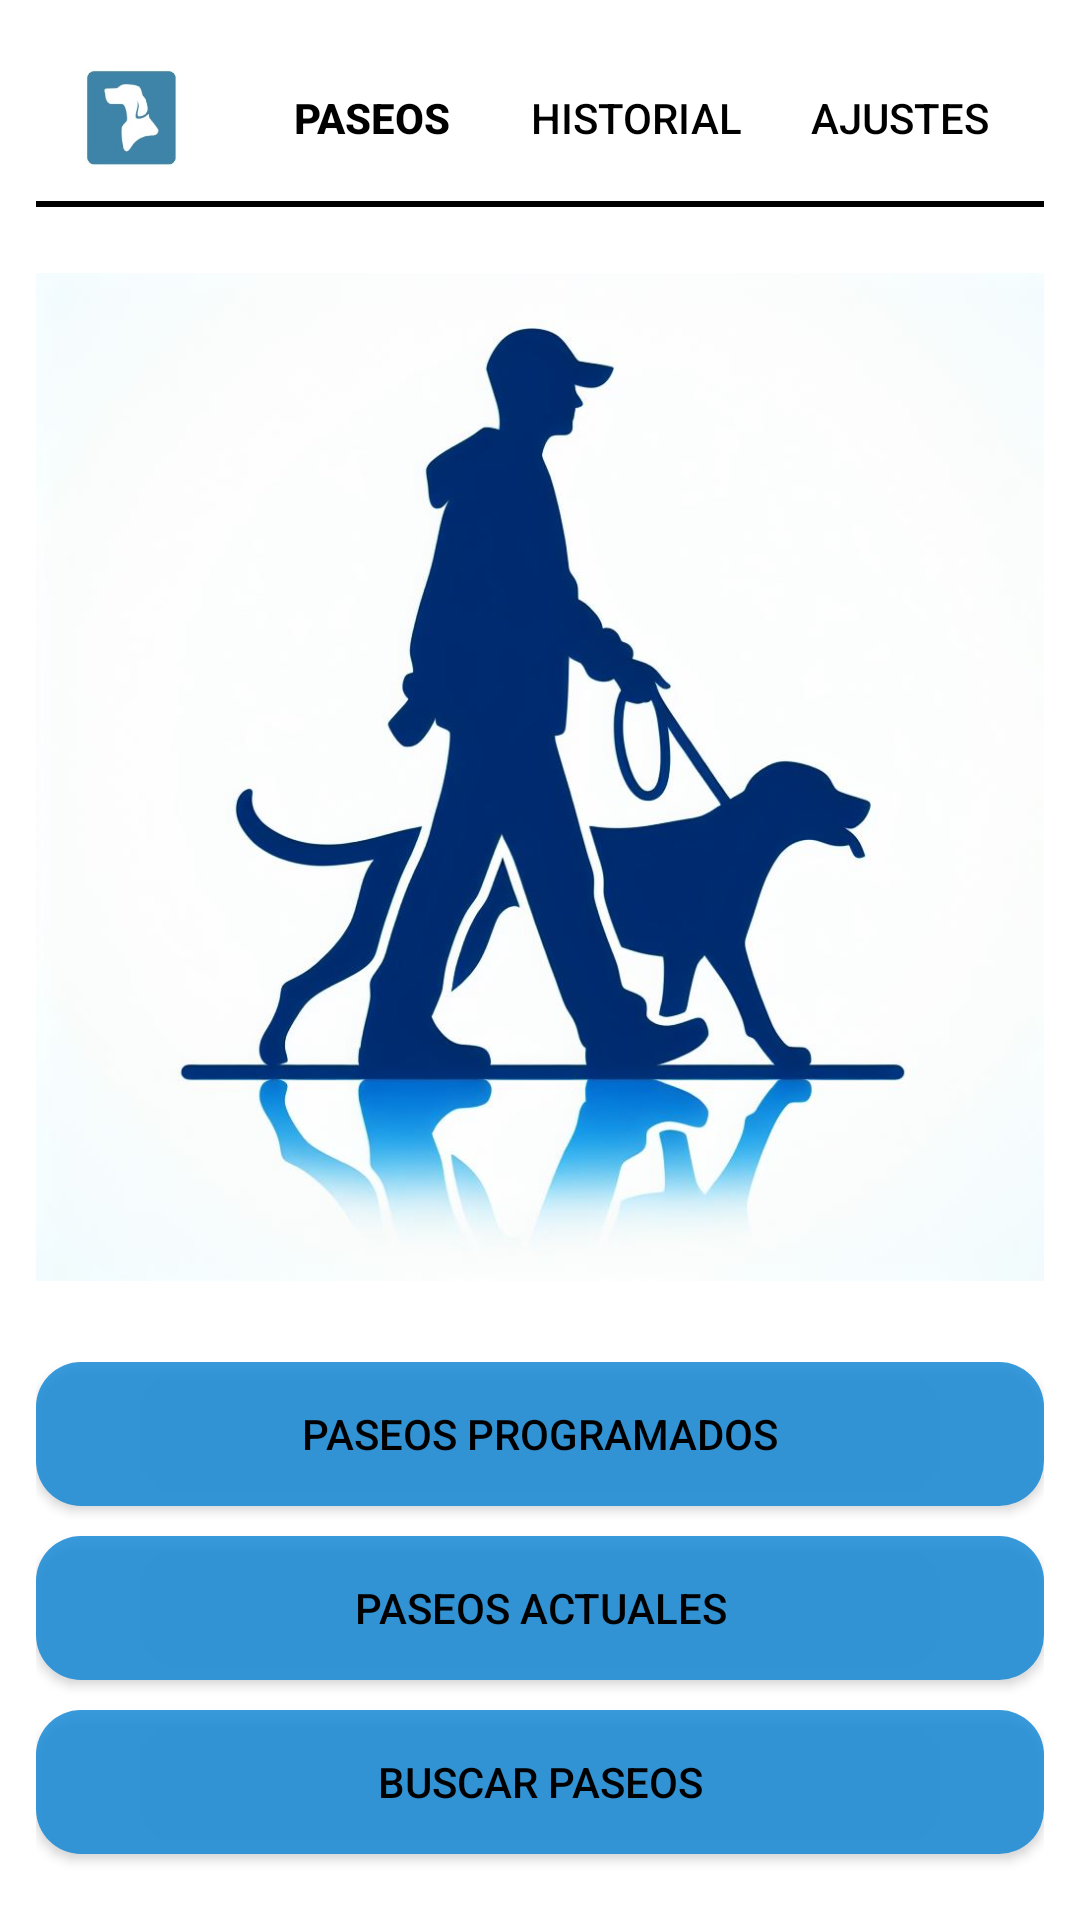

Named icons in this screenshot (1080x1920) and their bounding boxes, bbox(x1, y1, x2, y2):
loguito: bbox(87, 71, 176, 165)
